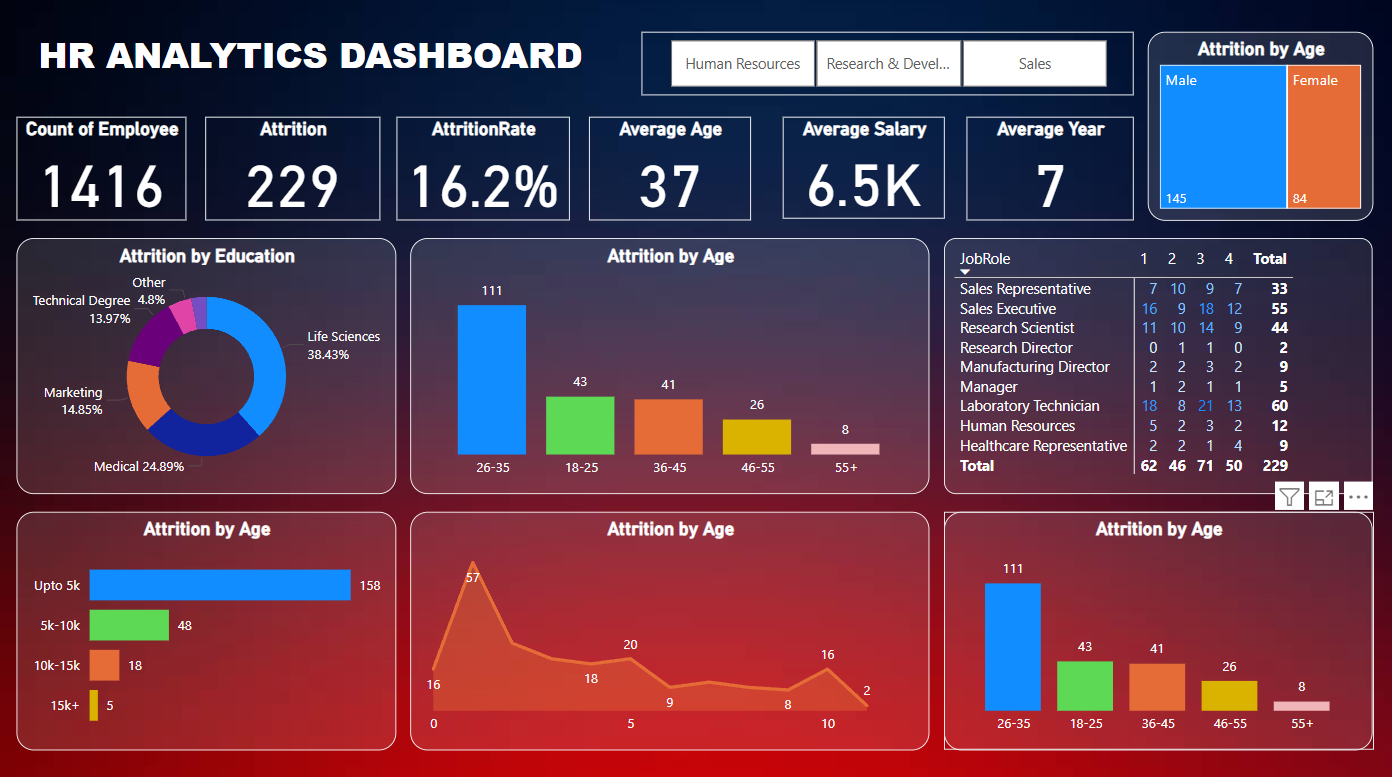

Layout of this report page (visuals, bound fields, positions):
{"tool":"powerbi","page":{"name":"Page 1","canvas":[1280,720],"ordinal":0},"visuals":[{"type":"card","title":"Count of Employee","fields":{"Values":["CountNonNull(HR_Analytics (2).EmpID)"]},"box":[16.1,109.4,156.1,94.8],"z":0},{"type":"card","title":"AttritionRate","fields":{"Values":["HR_Analytics (2).AttritionRate"]},"box":[364.8,109.4,159.1,94.8],"z":1000},{"type":"card","title":"Attrition","fields":{"Values":["Sum(HR_Analytics (2).AttritionCount)"]},"box":[189.7,109.4,160.5,94.8],"z":2000},{"type":"card","title":"Average Age","fields":{"Values":["Avg(HR_Analytics (2).Age)"]},"box":[541.4,109.4,148.8,94.8],"z":3000},{"type":"card","title":"Average Salary","fields":{"Values":["Avg(HR_Analytics (2).MonthlyIncome)"]},"box":[719.4,109.4,148.8,93.4],"z":4000},{"type":"card","title":"Average Year","fields":{"Values":["Avg(HR_Analytics (2).YearsAtCompany)"]},"box":[888.7,109.4,153.2,94.8],"z":5000},{"type":"donutChart","title":"Attrition by Education","fields":{"Y":["Sum(HR_Analytics (2).AttritionCount)"],"Category":["HR_Analytics (2).EducationField"]},"box":[16.1,220.3,348.8,234.9],"z":6000},{"type":"columnChart","title":"Attrition by Age","fields":{"Category":["HR_Analytics (2).AgeGroup"],"Y":["Sum(HR_Analytics (2).AttritionCount)"]},"box":[377.9,220.3,477.2,234.9],"z":7000},{"type":"pivotTable","fields":{"Rows":["HR_Analytics (2).JobRole"],"Columns":["HR_Analytics (2).JobSatisfaction"],"Values":["Sum(HR_Analytics (2).AttritionCount)"]},"box":[868.2,220.3,394,234.9],"z":8000},{"type":"barChart","title":"Attrition by Age","fields":{"Category":["HR_Analytics (2).SalarySlab"],"Y":["Sum(HR_Analytics (2).AttritionCount)"]},"box":[16.1,471.3,348.8,218.9],"z":9000},{"type":"areaChart","title":"Attrition by Age","fields":{"Category":["HR_Analytics (2).YearsAtCompany"],"Y":["Sum(HR_Analytics (2).AttritionCount)"]},"box":[377.9,471.3,477.2,218.9],"z":10000},{"type":"columnChart","title":"Attrition by Age","fields":{"Category":["HR_Analytics (2).AgeGroup"],"Y":["Sum(HR_Analytics (2).AttritionCount)"]},"box":[868.2,471.3,394,218.9],"z":11000},{"type":"treemap","title":"Attrition by Age","fields":{"Group":["HR_Analytics (2).Gender"],"Values":["Sum(HR_Analytics (2).AttritionCount)"]},"box":[1055,30.6,207.2,173.6],"z":12000},{"type":"slicer","fields":{"Values":["HR_Analytics (2).Department"]},"box":[590.1,30.6,452.4,58.4],"z":13000},{"type":"textbox","box":[30.9,23.9,531.9,73],"z":14000}]}

Visuals, with their boxes in screenshot pixels (x1, y1, x2, y2), scaled from the page's 1280x720 canvas onto the 1392x777 screenshot:
"Count of Employee" card: bbox=(18, 118, 187, 220)
"AttritionRate" card: bbox=(397, 118, 570, 220)
"Attrition" card: bbox=(206, 118, 381, 220)
"Average Age" card: bbox=(589, 118, 751, 220)
"Average Salary" card: bbox=(782, 118, 944, 219)
"Average Year" card: bbox=(966, 118, 1133, 220)
"Attrition by Education" donutChart: bbox=(18, 238, 397, 491)
"Attrition by Age" columnChart: bbox=(411, 238, 930, 491)
pivotTable - HR_Analytics (2).JobRole x HR_Analytics (2).JobSatisfaction: bbox=(944, 238, 1373, 491)
"Attrition by Age" barChart: bbox=(18, 509, 397, 745)
"Attrition by Age" areaChart: bbox=(411, 509, 930, 745)
"Attrition by Age" columnChart: bbox=(944, 509, 1373, 745)
"Attrition by Age" treemap: bbox=(1147, 33, 1373, 220)
slicer - HR_Analytics (2).Department: bbox=(642, 33, 1134, 96)
textbox: bbox=(34, 26, 612, 105)
